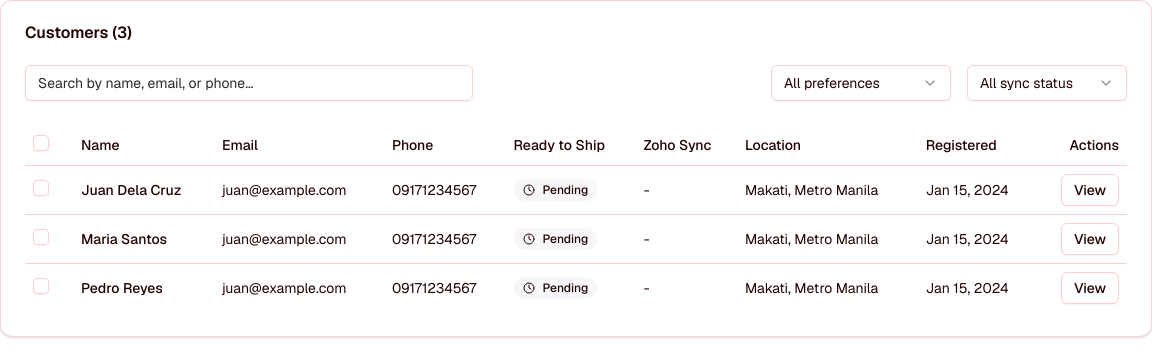
Test: CustomerList Component › Search Functionality › should filter customers by name
Type "Maria" into the field with placeholder "Search by name, email, or phone..." at (249, 83), box [25,65,473,101]
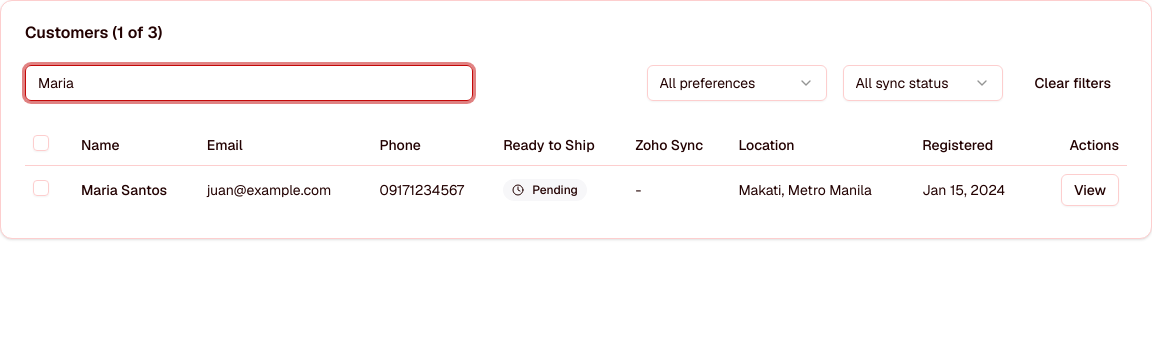
Now the text "Juan Dela Cruz" is gone
Now the text "Pedro Reyes" is gone
